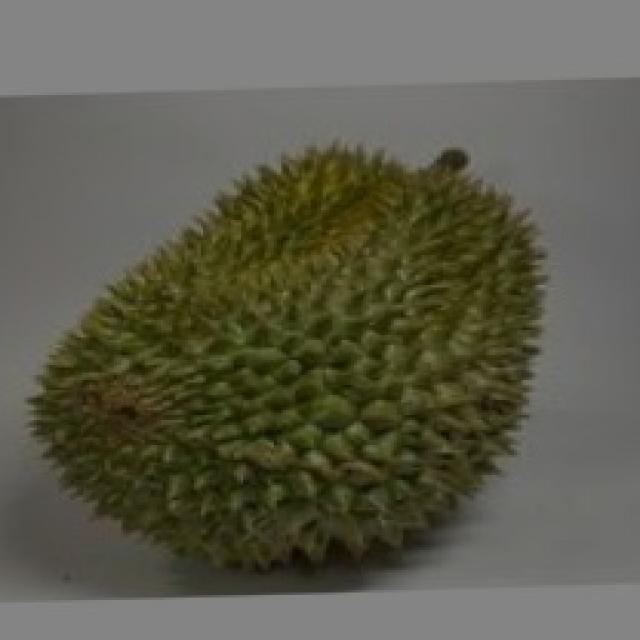fruit: (0, 182, 372, 602), (243, 150, 585, 598)
